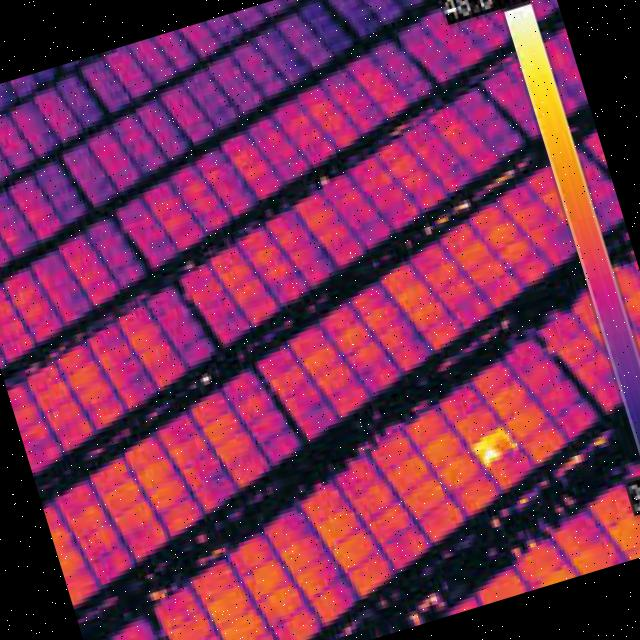Hotspot: (461, 412, 524, 475)
